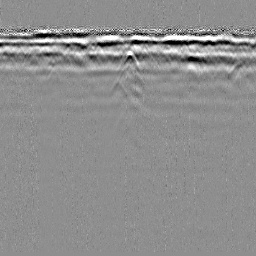cavity: (116, 49, 141, 72)
